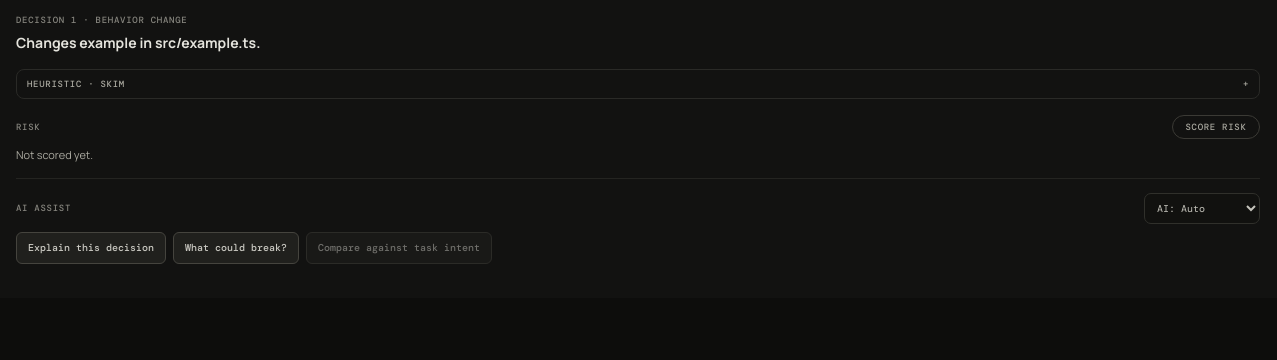
Test: diff review decision detail › surfaces a mid-stream failure as a visible error rather than a half-written answer
Click the button "Explain this decision". click: (91, 248)
box: [16,232,166,264]
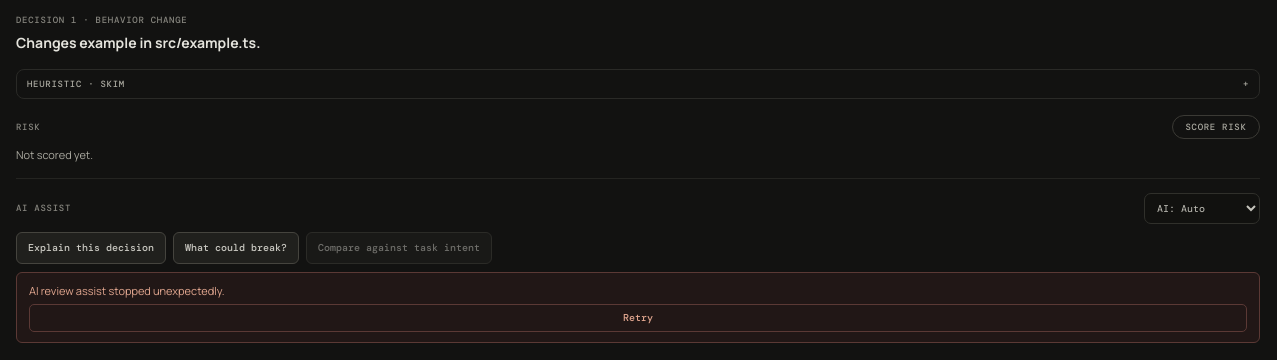
Expected: the message shows "AI review assist stopped unexpectedly.", [29,283,224,298]
Expected: the button "Retry" is shown, [29,304,1247,332]
